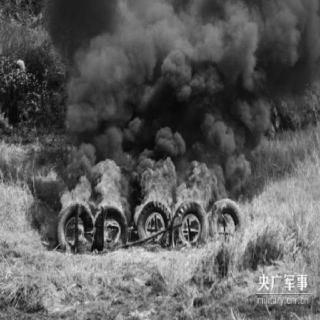Fire: (57, 156, 223, 252)
Smoke: (71, 4, 312, 170)
